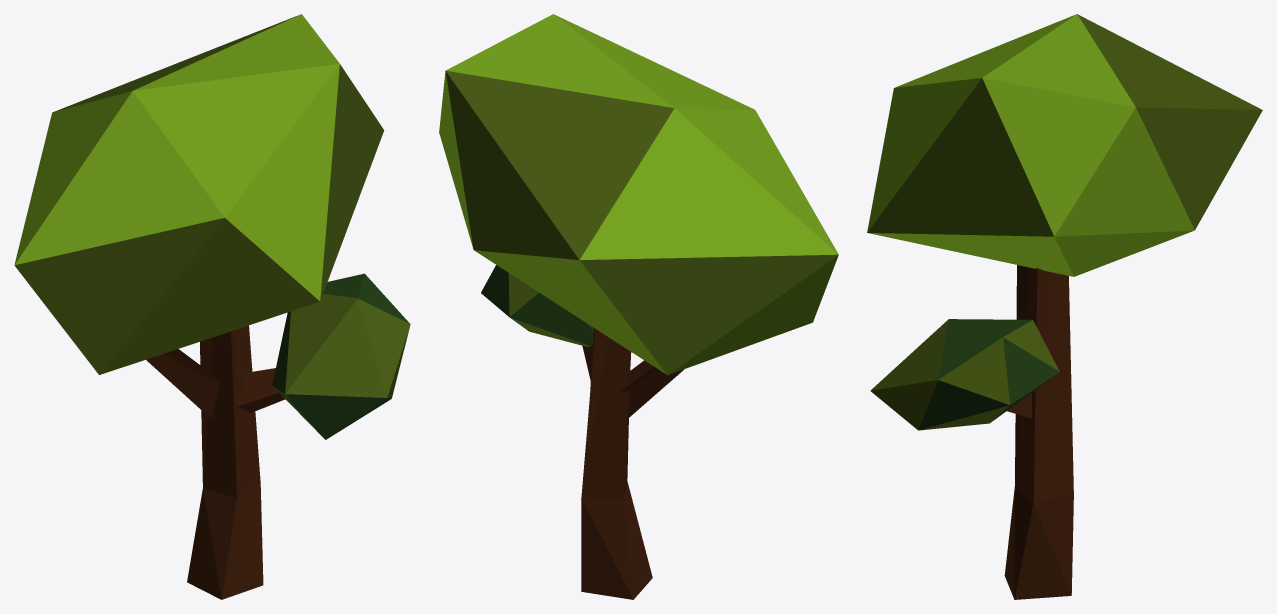
Rendered from Tree3_M2_4_medium.fbx.
3 views of the same model, side by side, from view 1: azimuth 30°, elevation 25°; view 2: azimuth 150°, elevation 25°; view 3: azimuth 270°, elevation 25° (orthographic). The views are drawn at different scales.
Parts seen in each view (by area): view 1: Tree3_M2_4_medium; view 2: Tree3_M2_4_medium; view 3: Tree3_M2_4_medium.
Boxes of the visible parts, bbox=[...] form: Tree3_M2_4_medium: bbox=[14, 14, 410, 599]; Tree3_M2_4_medium: bbox=[439, 14, 838, 599]; Tree3_M2_4_medium: bbox=[867, 14, 1262, 599].
Bounding box in the file's own units: 264 × 344 × 223.
